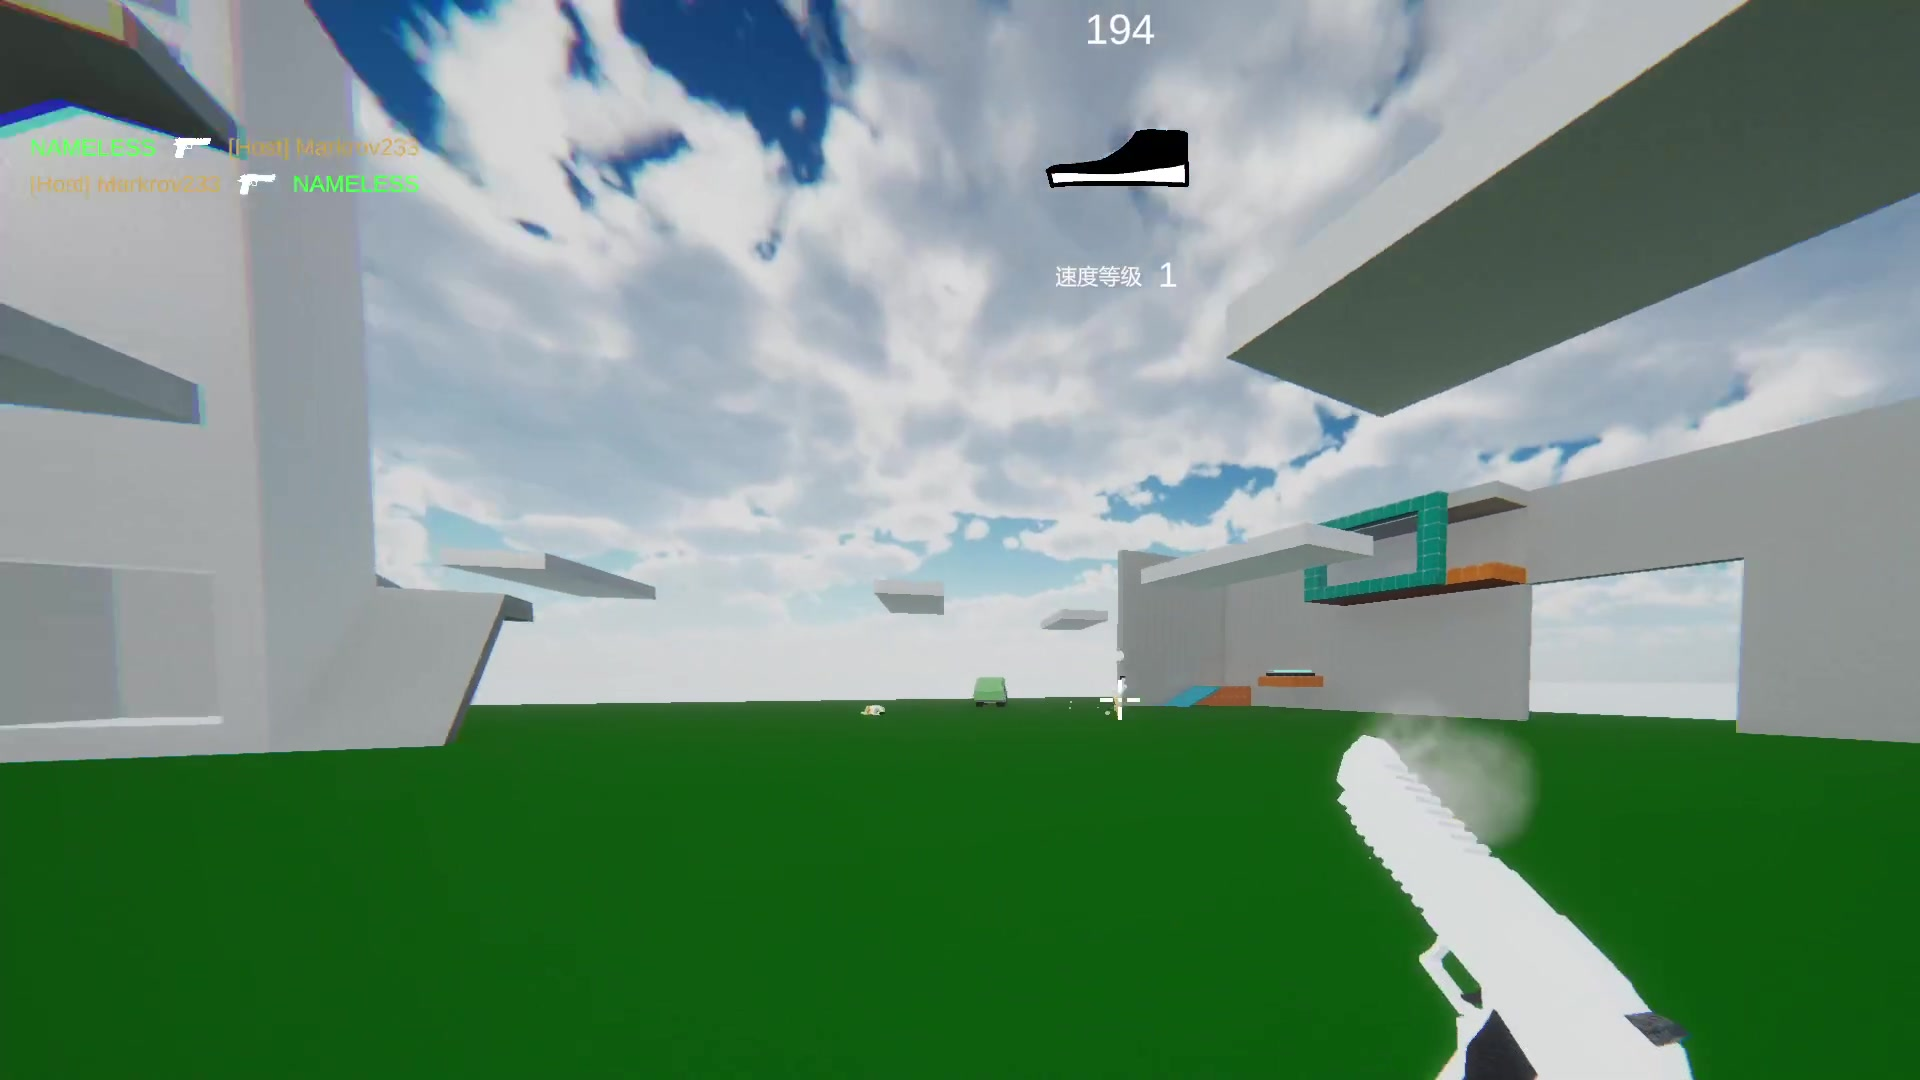died: (861, 696, 887, 715)
human: (1108, 679, 1129, 713)
